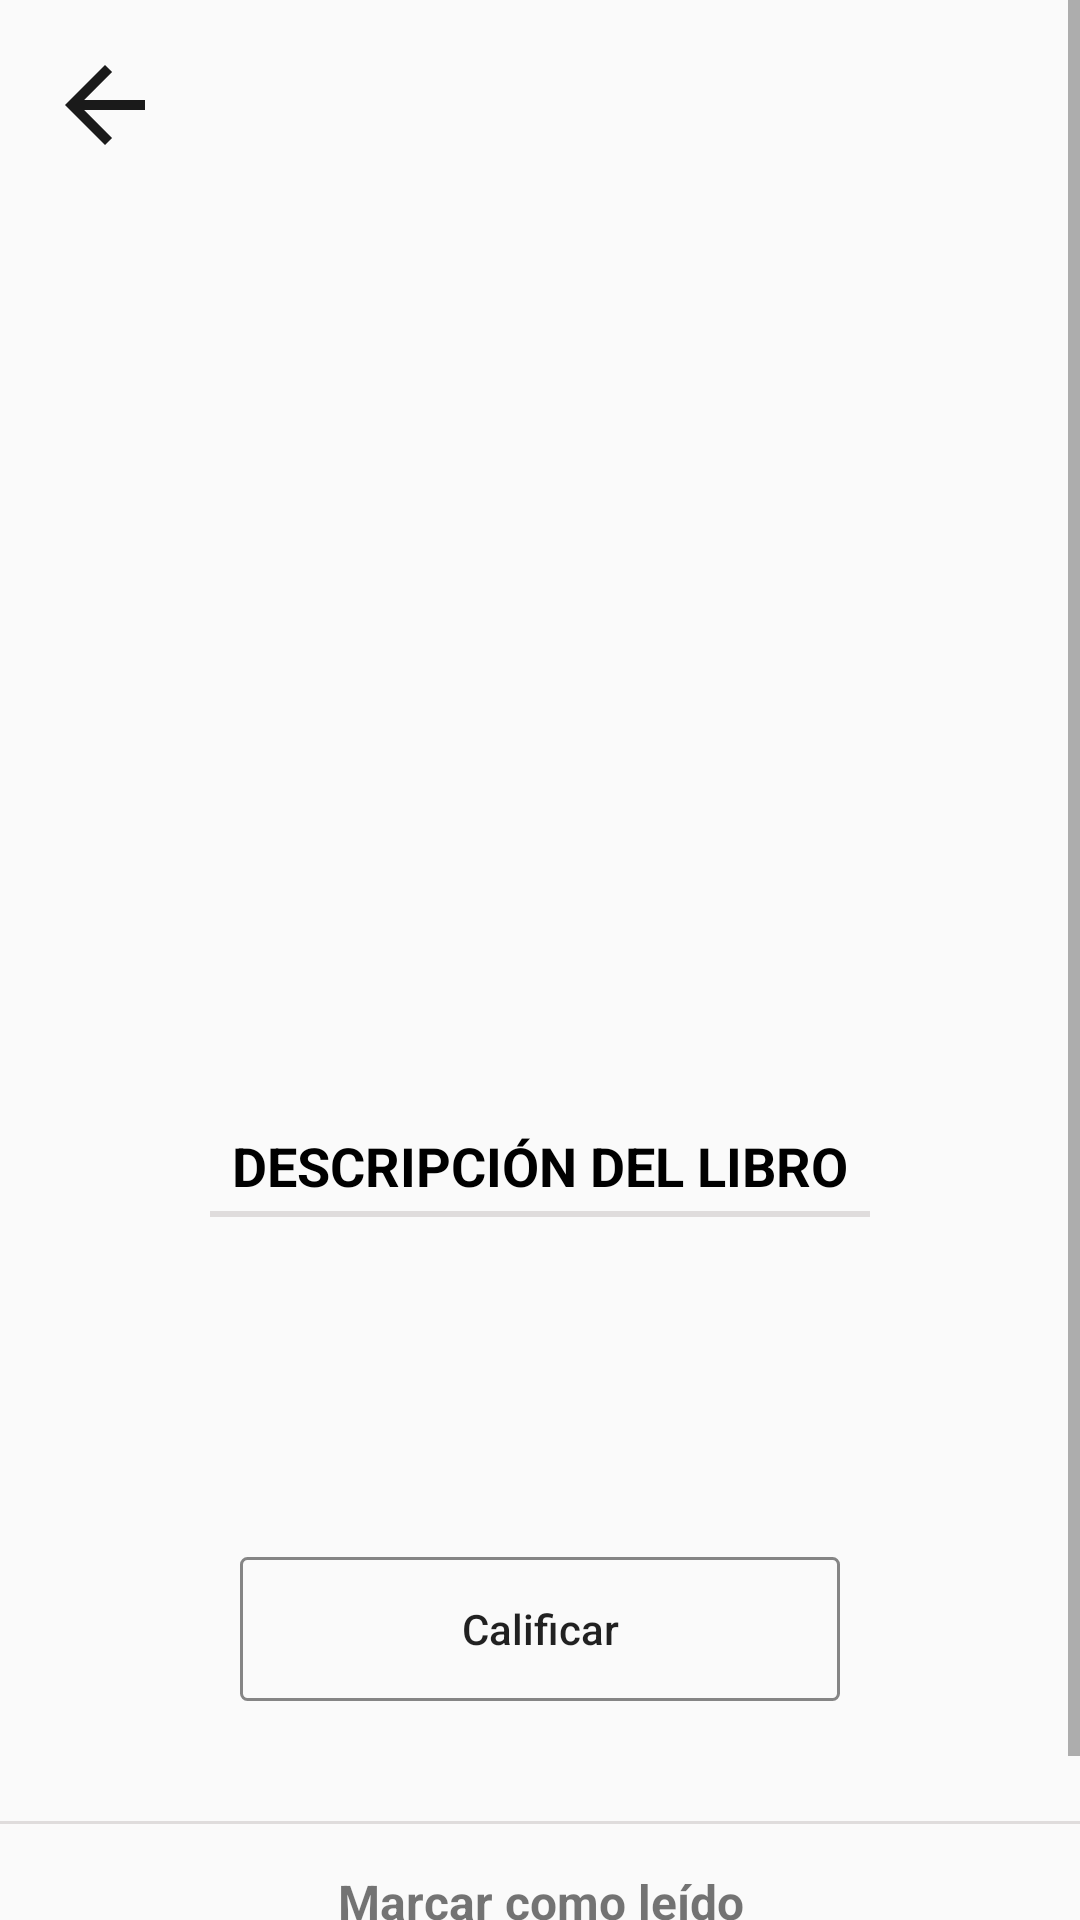

Named icons in this screenshot (1080 x 1920) and their centers, (x=x, y=y):
arrow back: (x=105, y=105)
